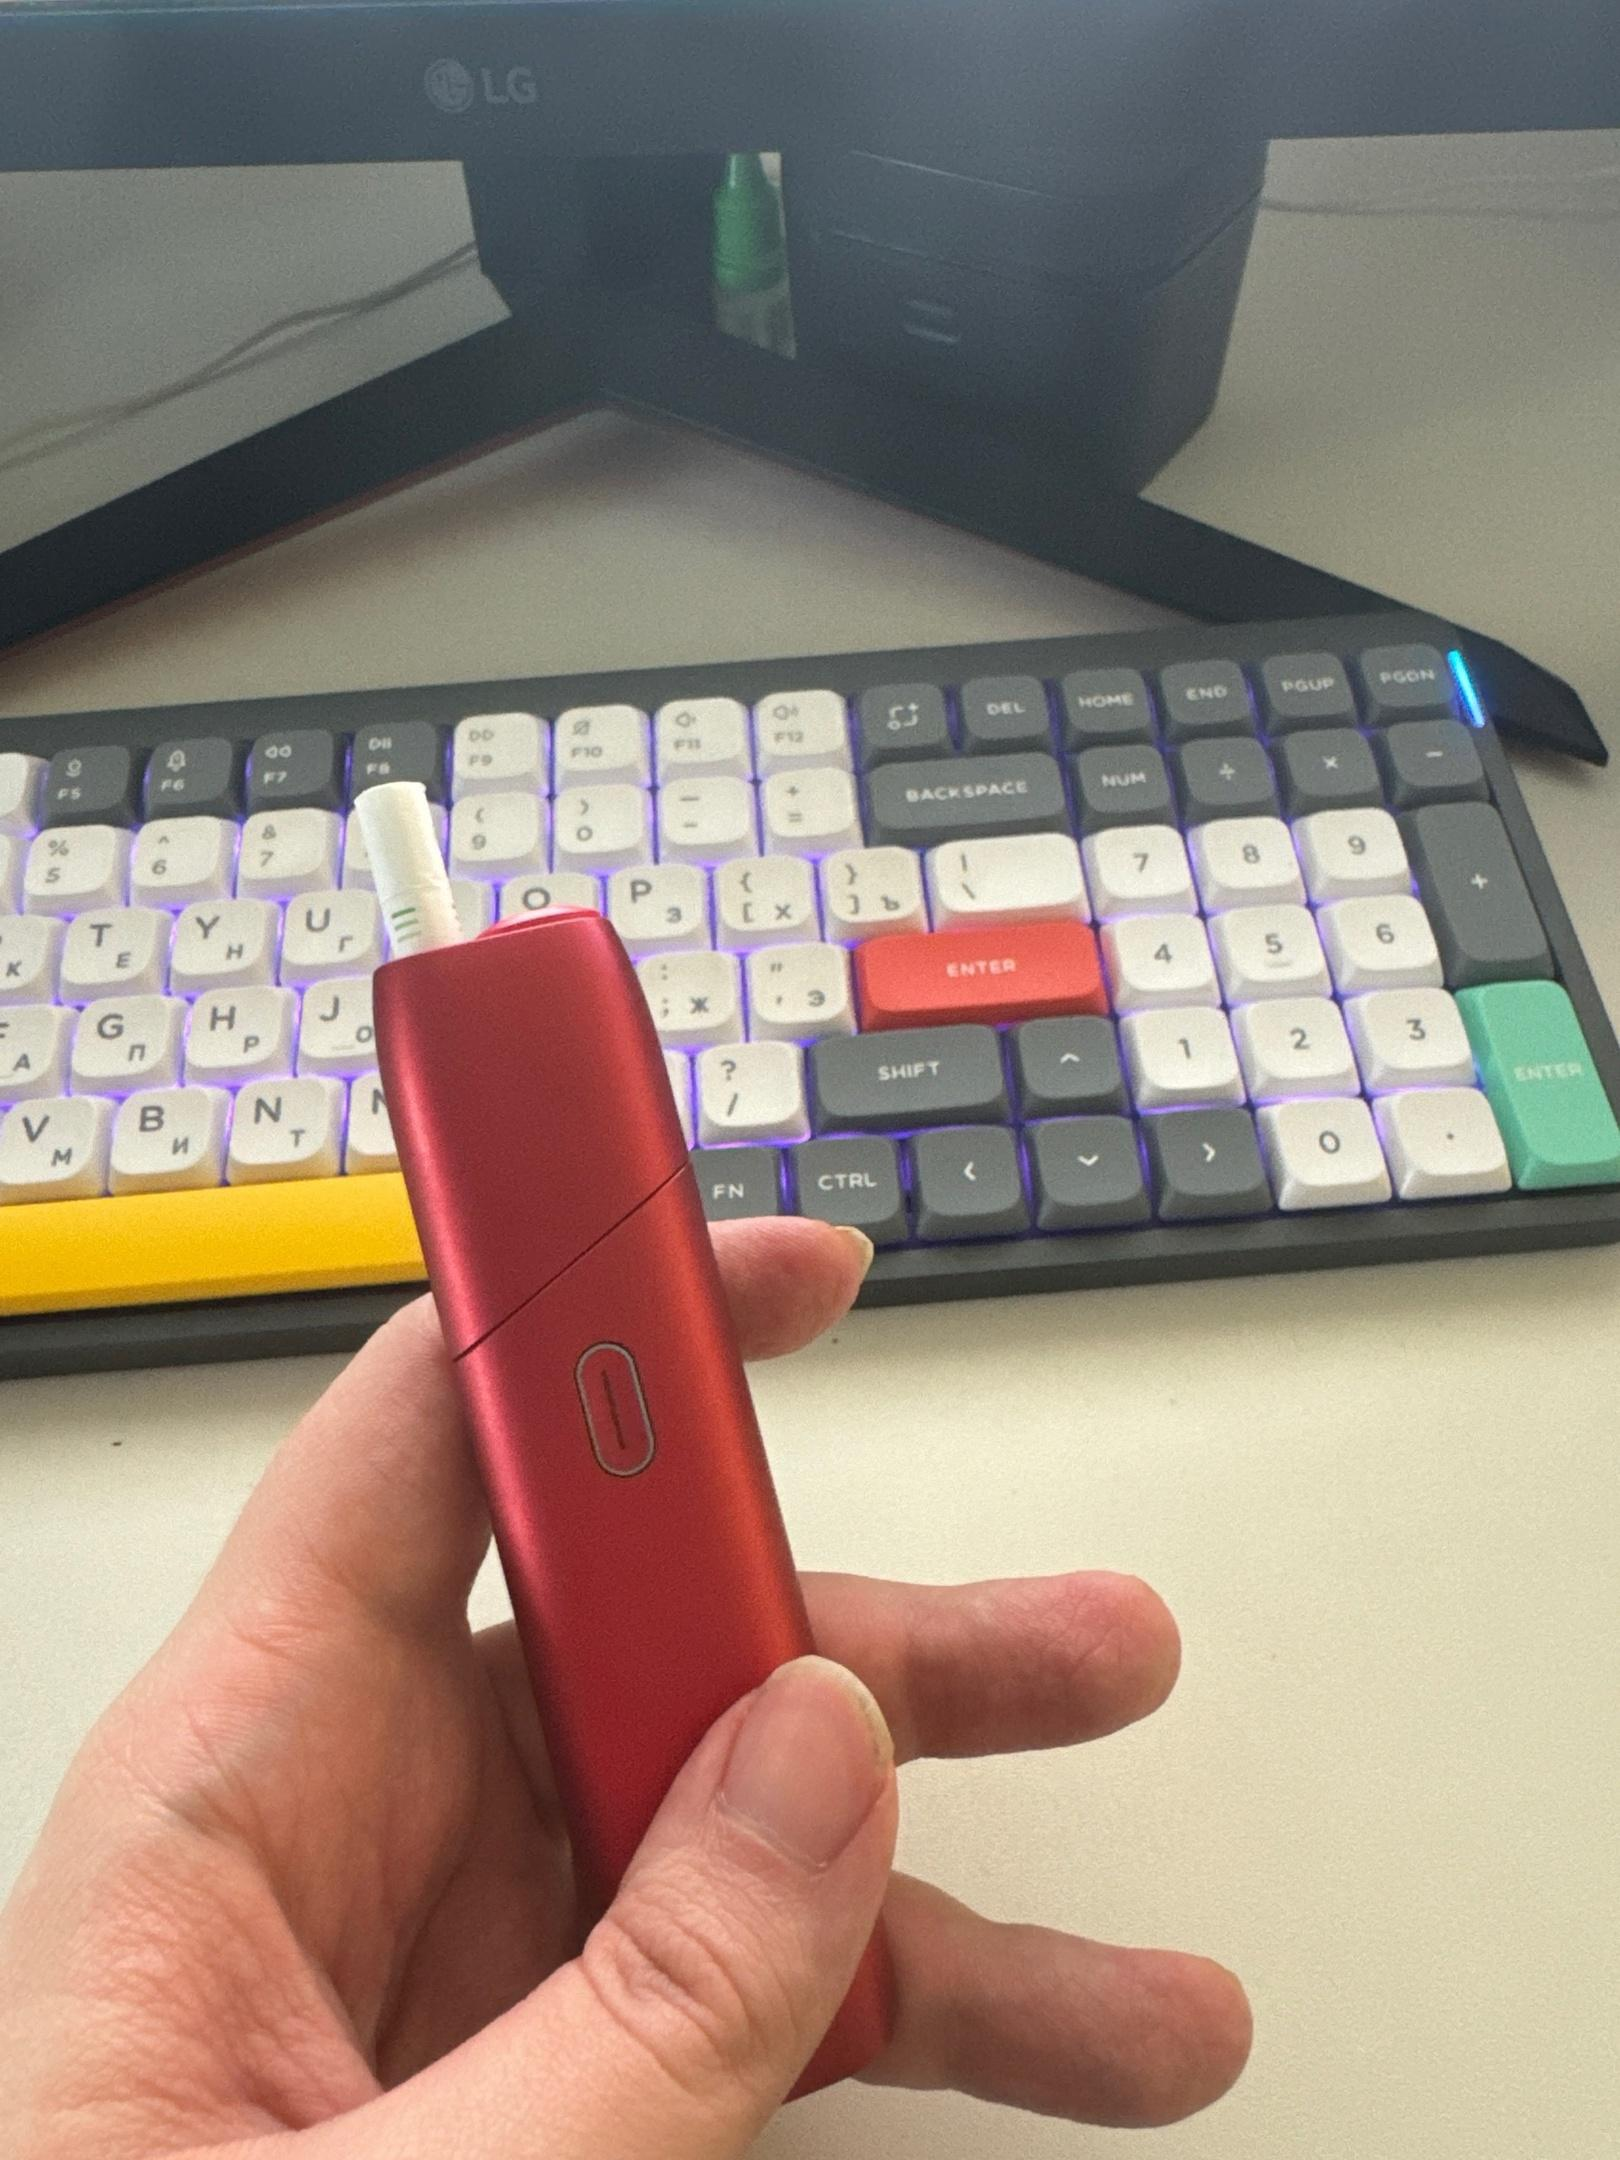iqos: (357, 784, 810, 1891)
